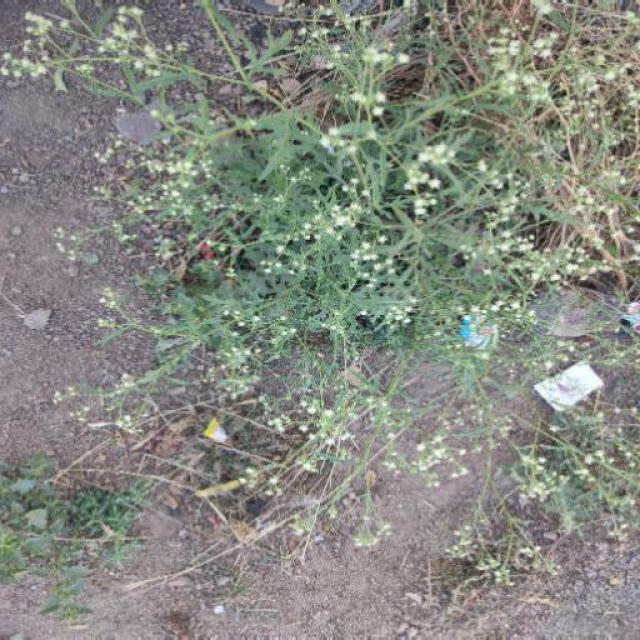weed: (112, 1, 620, 576)
